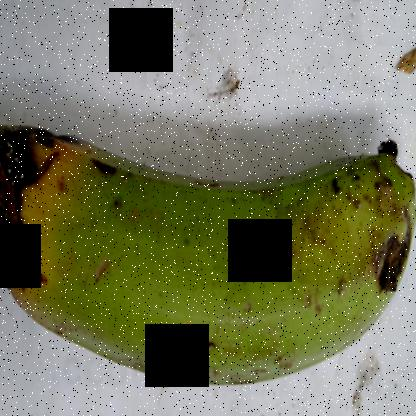unripe: (71, 127, 415, 412)
